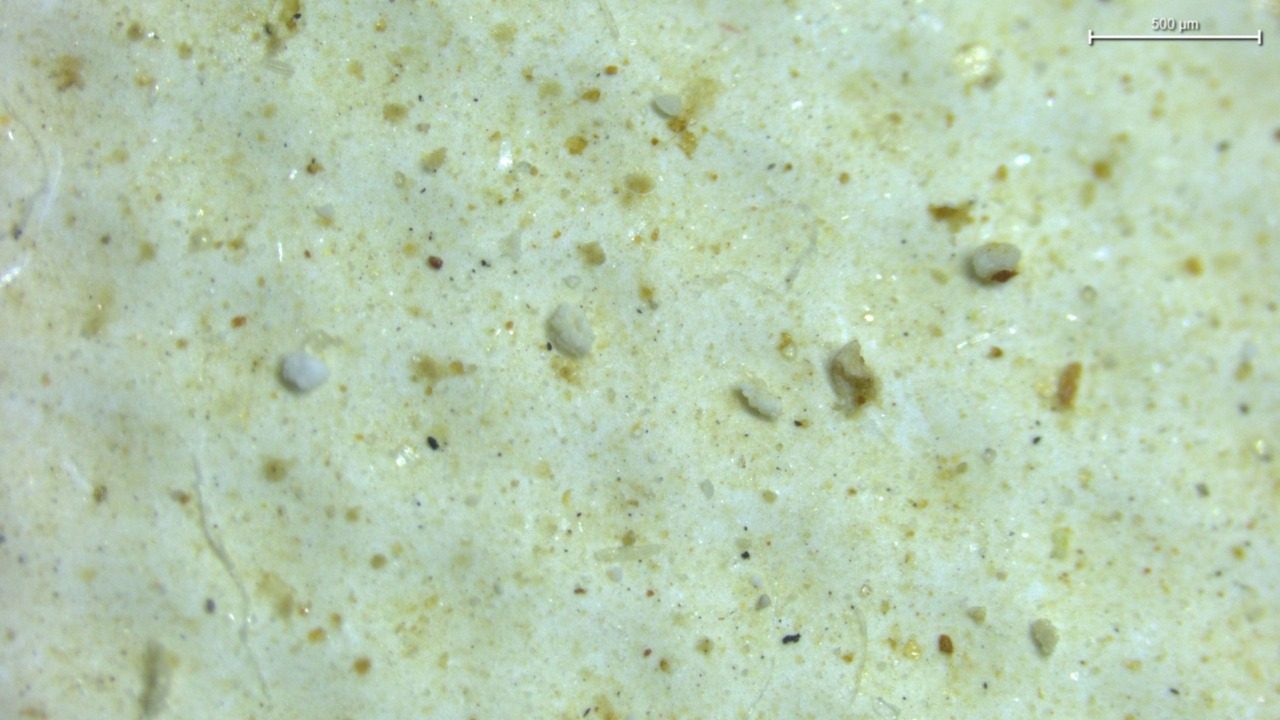microplastic_fragment: (546, 303, 593, 357), (971, 242, 1021, 283), (281, 350, 329, 391), (737, 379, 782, 420), (1029, 619, 1059, 657), (653, 94, 682, 116)
